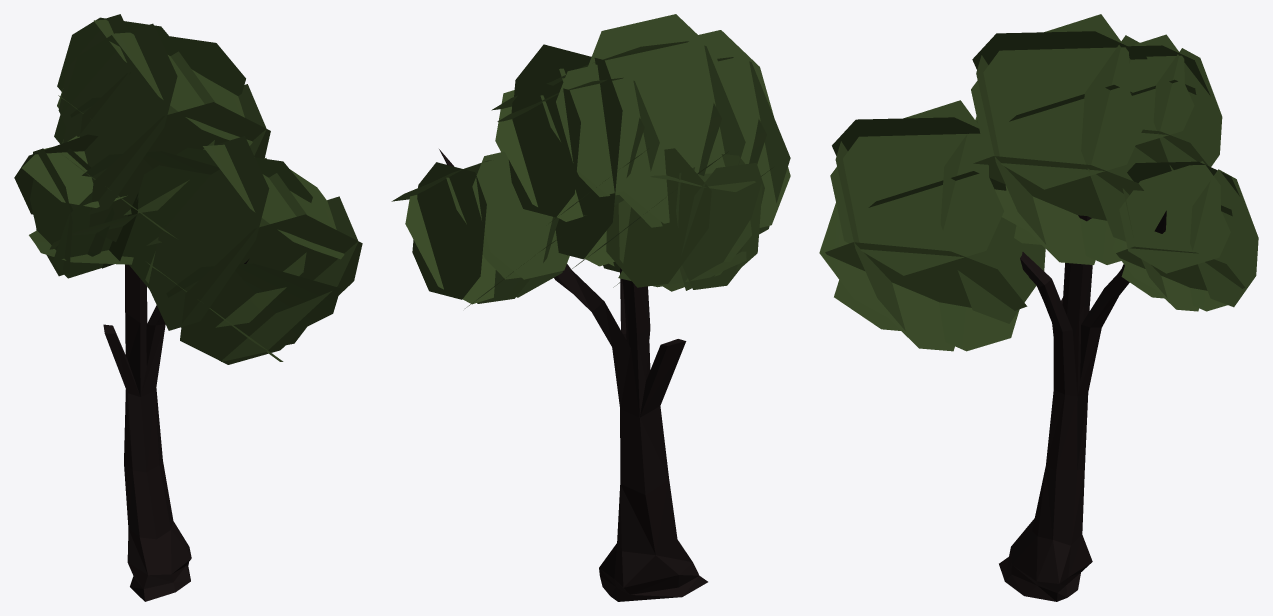
The model's file is tree_02.FBX.
3 renders of one model, left to right at view 1: azimuth 30°, elevation 25°; view 2: azimuth 150°, elevation 25°; view 3: azimuth 270°, elevation 25°, orthographic. The views are drawn at different scales.
Visible parts, largest first — view 1: leaf_blob_03, tree_base_003; view 2: leaf_blob_03, tree_base_003; view 3: leaf_blob_03, tree_base_003.
Boxes of the visible parts, box(x1,y1,x2,y2) form: leaf_blob_03: box(14, 14, 362, 364); tree_base_003: box(103, 259, 248, 601); leaf_blob_03: box(391, 14, 790, 308); tree_base_003: box(439, 149, 707, 601); leaf_blob_03: box(819, 14, 1258, 351); tree_base_003: box(999, 210, 1166, 601).
Bounding box in the file's own units: 339 × 657 × 464.
